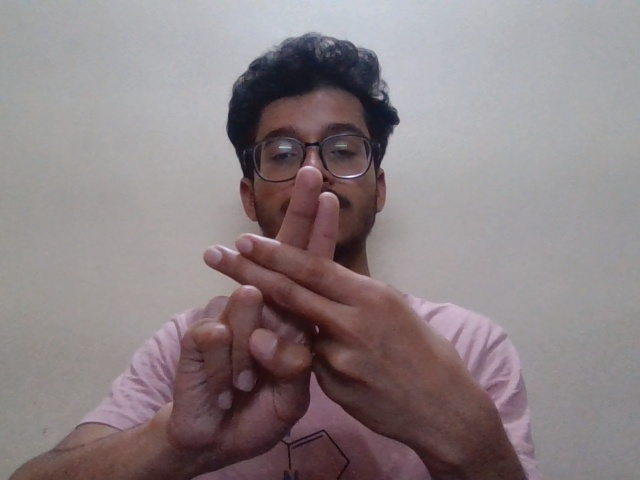disabled: (141, 161, 486, 473)
